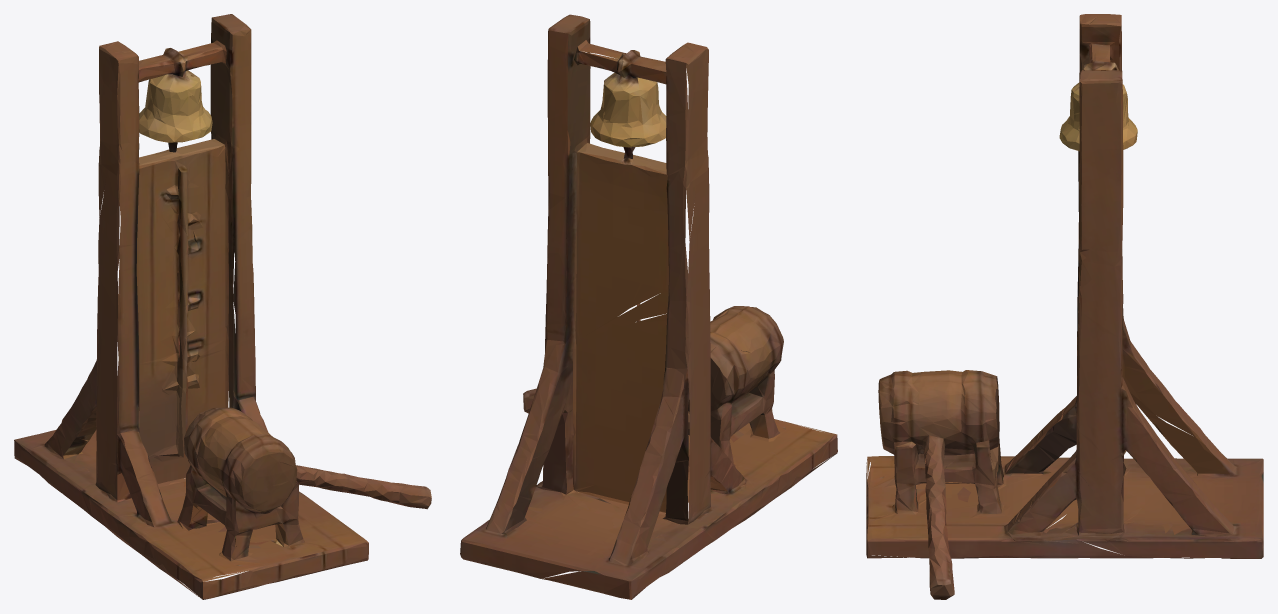
The model's file is game_hammer.glb.
3 views of the same model, side by side, from view 1: azimuth 30°, elevation 25°; view 2: azimuth 150°, elevation 25°; view 3: azimuth 270°, elevation 25° (orthographic). The views are drawn at different scales.
Parts seen in each view (by area): view 1: geometry_0; view 2: geometry_0; view 3: geometry_0.
Part boxes in pixels (left/top/right/bottom): geometry_0: left=14, top=14, right=431, bottom=599; geometry_0: left=460, top=14, right=837, bottom=599; geometry_0: left=866, top=14, right=1263, bottom=599.
Size of the model in its own units: 1.44 by 2.4 by 1.83.
Materials: 1 (1 with a texture image).
